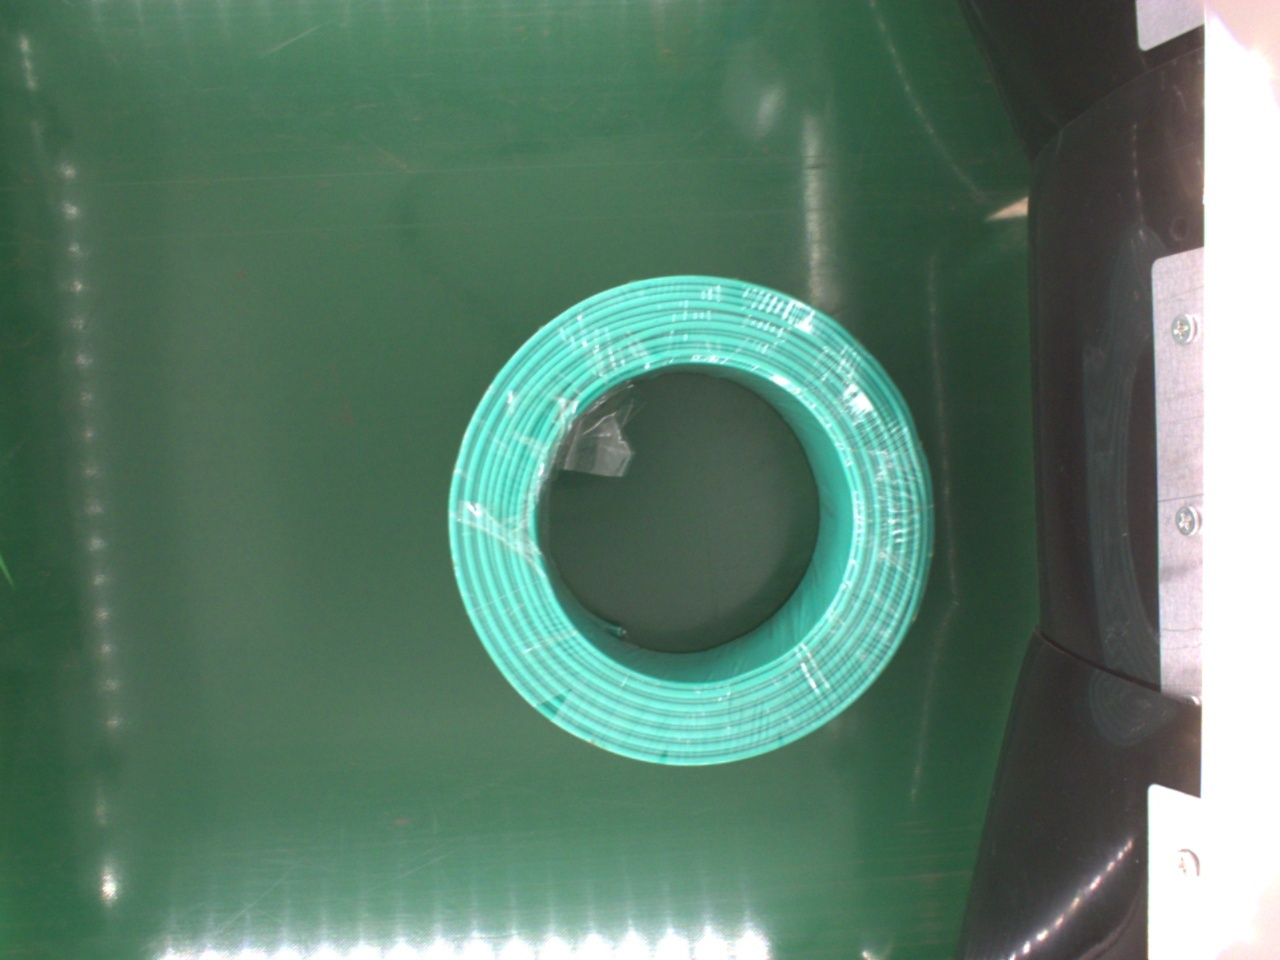green: (444, 277, 935, 769)
